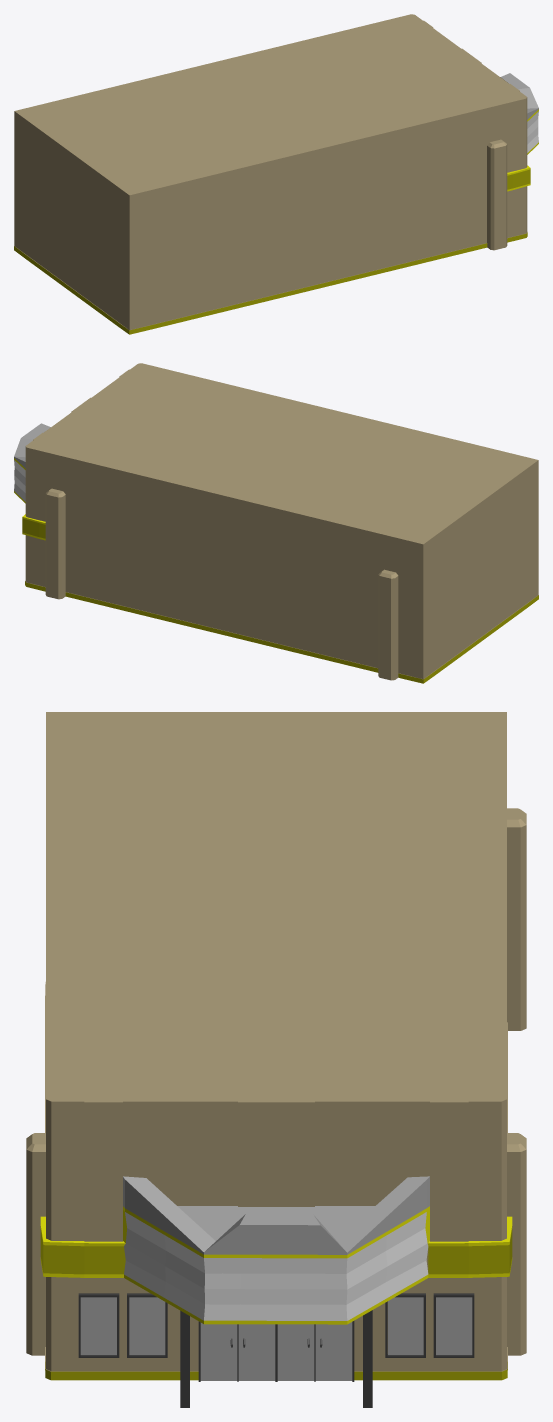
File: Building_8.fbx
3 views of the same model, one above another, from view 1: azimuth 30°, elevation 25°; view 2: azimuth 150°, elevation 25°; view 3: azimuth 270°, elevation 25° (orthographic). The views are drawn at different scales.
Visible parts, largest first — view 1: pTorus5; view 2: pTorus5; view 3: pTorus5, polySurface9, polySurface15, polySurface13, polySurface14.
Boxes of the visible parts, x1,y1,x2,y2 form: pTorus5: [14, 14, 538, 334]; pTorus5: [14, 363, 538, 683]; pTorus5: [26, 712, 526, 1407]; polySurface9: [80, 1297, 116, 1354]; polySurface15: [436, 1297, 472, 1354]; polySurface13: [129, 1297, 165, 1354]; polySurface14: [388, 1297, 423, 1354].
Bounding box in the file's own units: 33.8 × 10 × 16.27.
